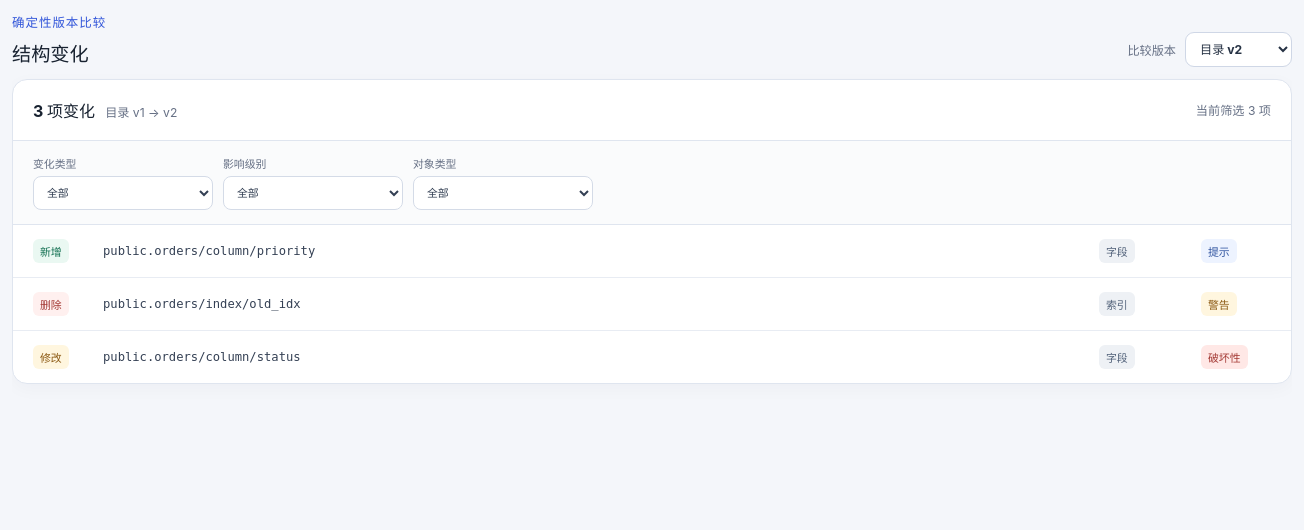
Test: shows deterministic changes with severity and before-after details
Expected: the text "public.orders/column/priority" is shown, left=103, top=244, right=315, bottom=258
Expected: the text "3 项变化" is shown, left=33, top=98, right=95, bottom=122
Click the text "public.orders/column/status" at (202, 357), box left=103, top=350, right=301, bottom=364
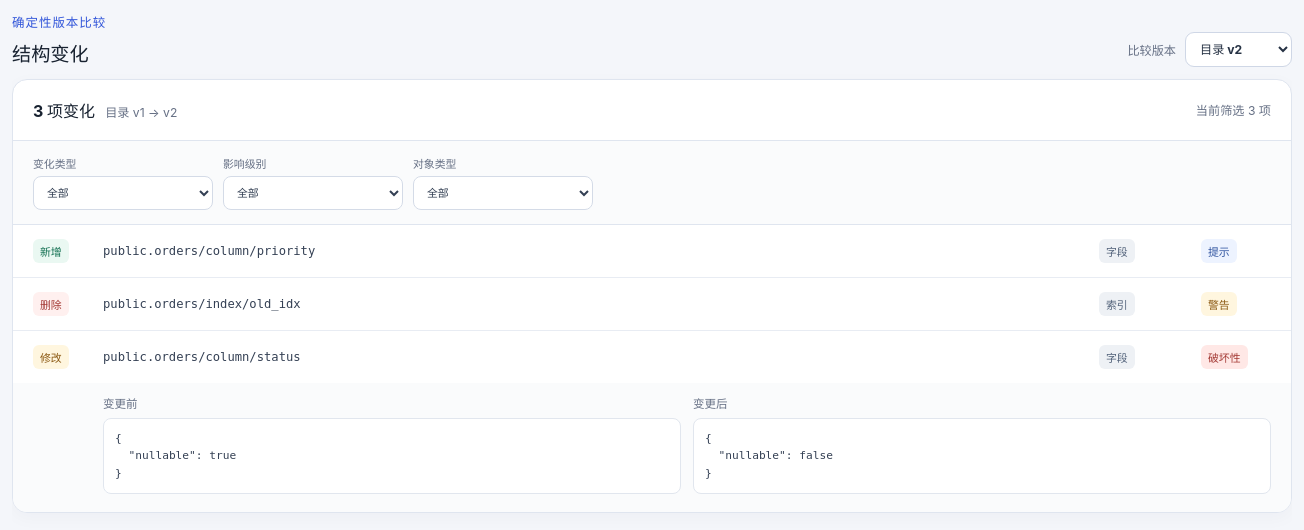
Now the text "{ \"nullable\": true }" is shown, box left=103, top=418, right=681, bottom=494
Now the text "{ \"nullable\": false }" is shown, box left=693, top=418, right=1271, bottom=494
